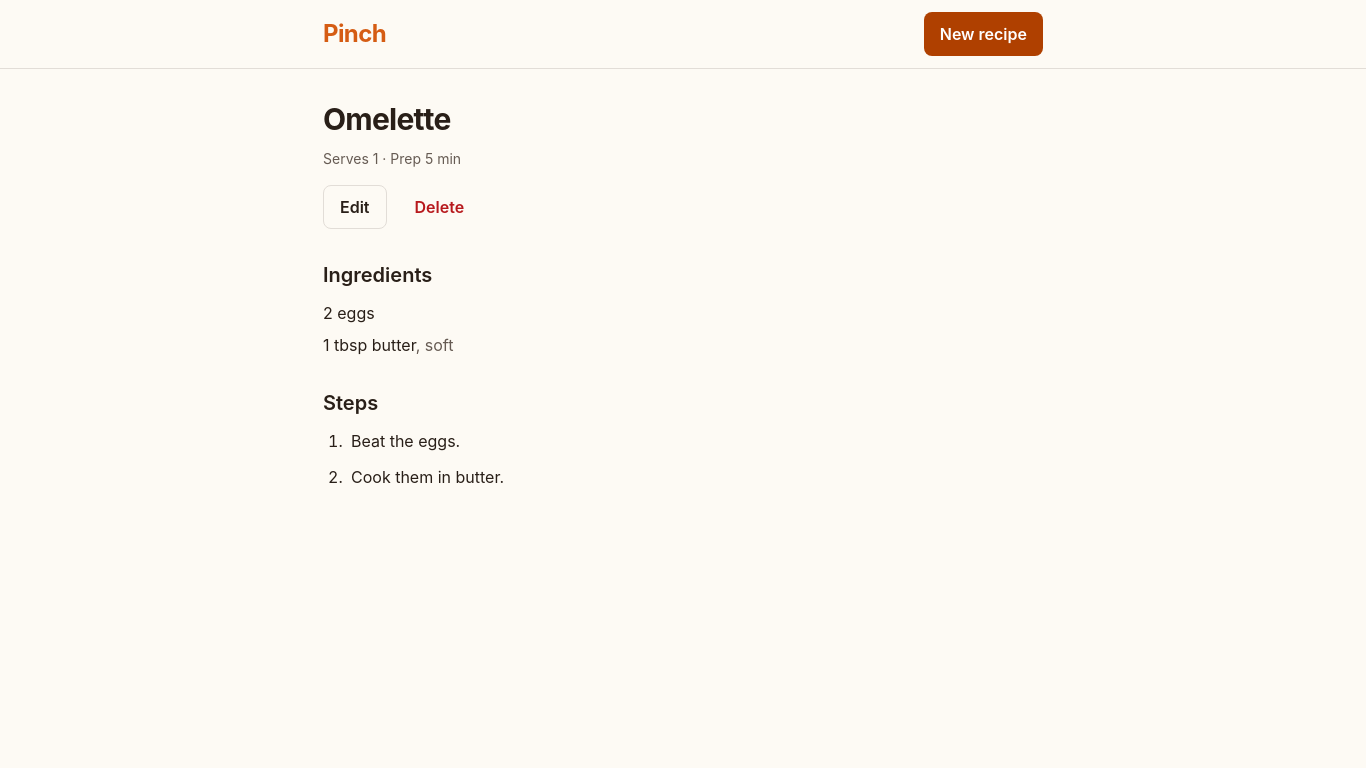
Test: a failed delete keeps the question open and says so
The width and height of the screenshot is (1366, 768).
Click the button "Delete": (439, 207) 398,185 -> 480,229
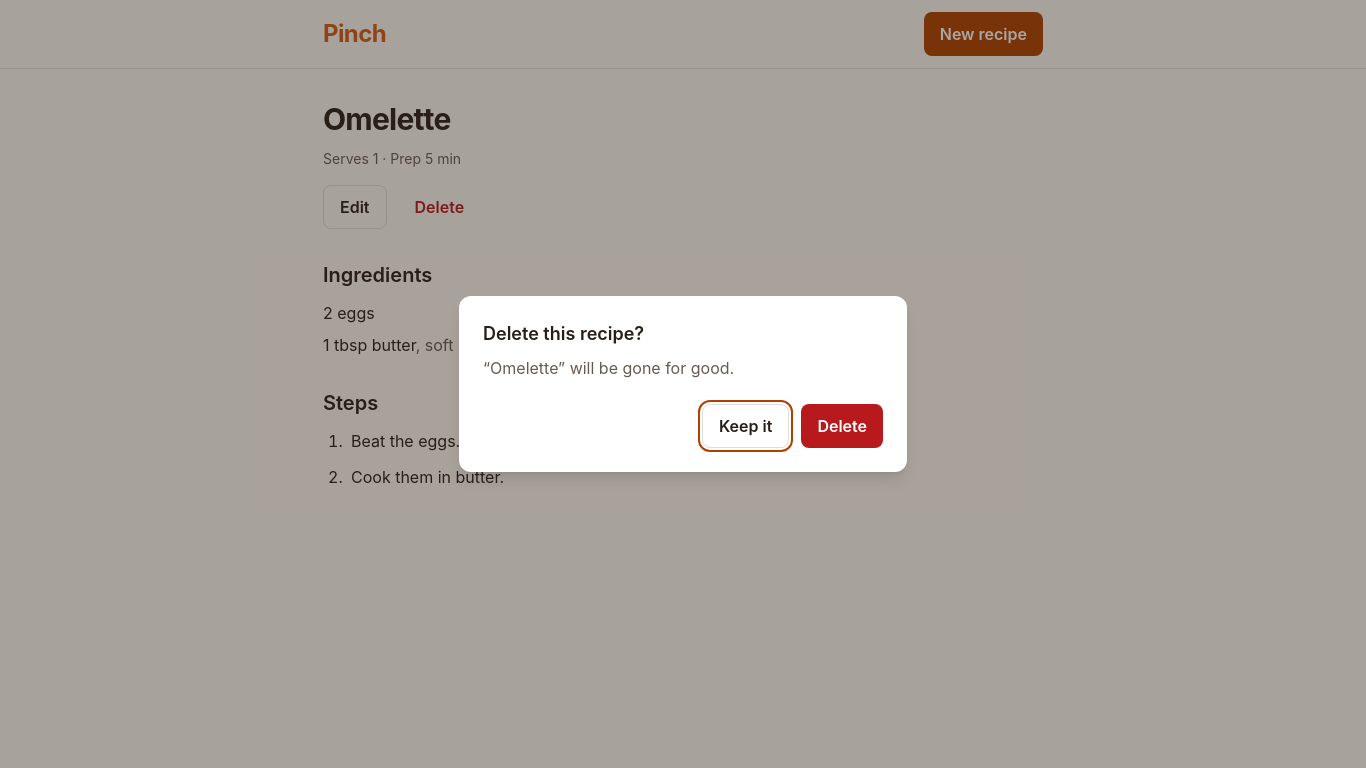
Click the button "Delete": (842, 426) 801,404 -> 883,448
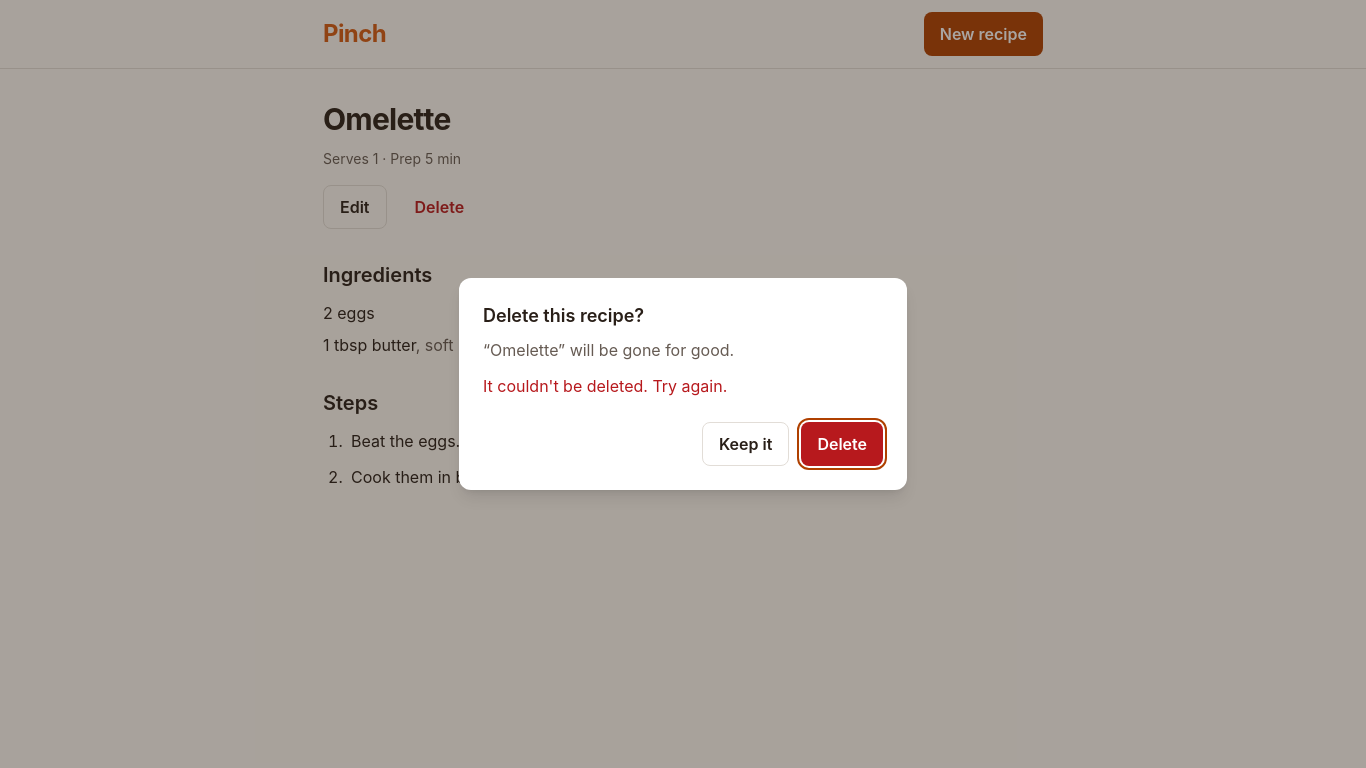
Check: the message shows "It couldn't be deleted.", box 483,376 -> 727,396
